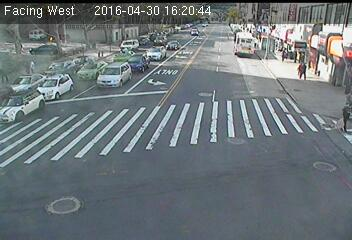neg: (49, 59, 70, 88), (112, 38, 129, 61), (89, 45, 104, 65), (252, 27, 267, 47), (149, 39, 161, 54), (74, 60, 85, 74)
pos: (335, 98, 351, 133), (296, 60, 309, 78), (28, 58, 39, 73)
